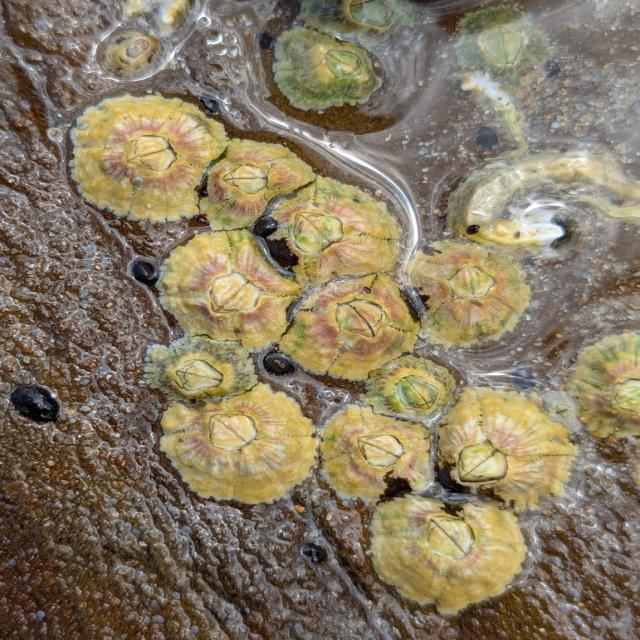barnacles: (373, 501, 535, 618), (70, 91, 210, 223), (164, 394, 318, 507), (405, 226, 540, 352), (163, 232, 291, 350), (279, 270, 411, 382), (438, 411, 576, 513), (266, 180, 401, 280), (450, 0, 553, 96), (306, 422, 440, 494), (276, 32, 377, 116), (205, 139, 296, 223), (139, 340, 256, 400), (370, 354, 457, 416), (88, 25, 168, 88)
